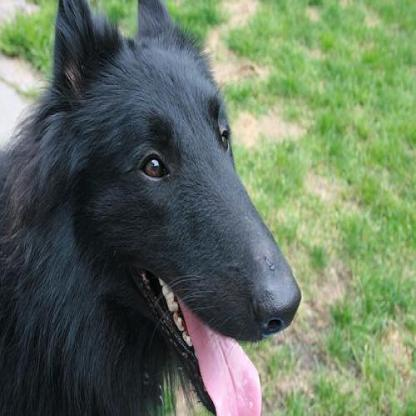groenendael: (0, 0, 300, 414)
